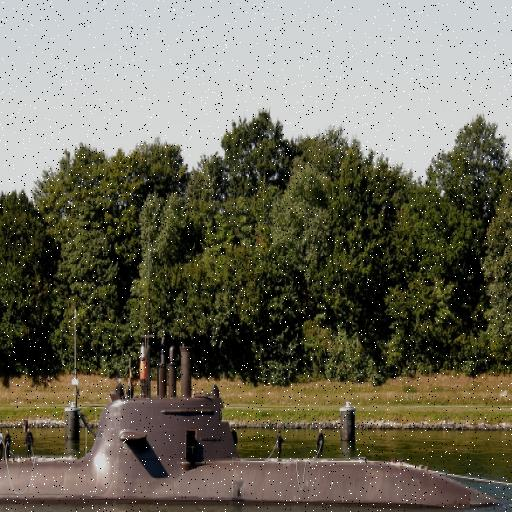submarine: (1, 367, 512, 512)
